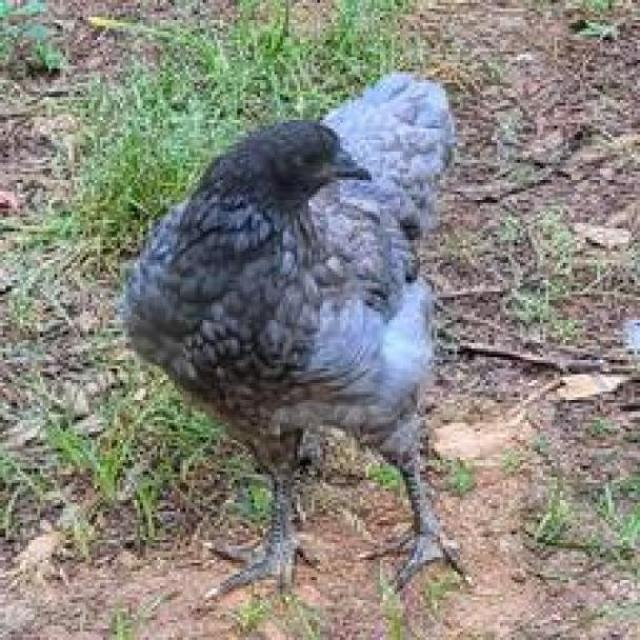Chicken: (99, 60, 574, 602)
